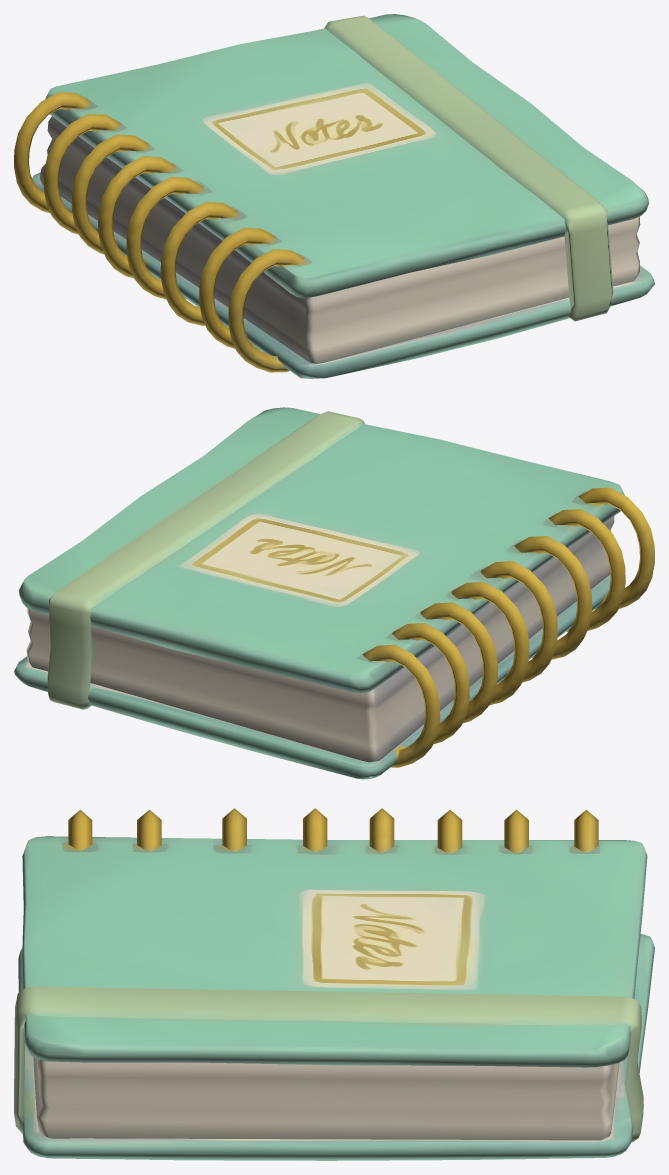
The model's file is notes_notebook_3d_model.fbx.
The picture shows the model from 3 angles, top to bottom: view 1: azimuth 30°, elevation 25°; view 2: azimuth 150°, elevation 25°; view 3: azimuth 270°, elevation 25°; orthographic projection. The views are drawn at different scales.
Visible parts, largest first — view 1: tripo_4169d6d0_b3f7_4890_b4a7_c91dec88aa7b; view 2: tripo_4169d6d0_b3f7_4890_b4a7_c91dec88aa7b; view 3: tripo_4169d6d0_b3f7_4890_b4a7_c91dec88aa7b.
Part boxes in pixels (<box>): tripo_4169d6d0_b3f7_4890_b4a7_c91dec88aa7b: <box>14,14,654,378</box>; tripo_4169d6d0_b3f7_4890_b4a7_c91dec88aa7b: <box>14,407,654,779</box>; tripo_4169d6d0_b3f7_4890_b4a7_c91dec88aa7b: <box>14,808,654,1160</box>.
Bounding box in the file's own units: 0.8862 × 0.2563 × 0.9995.
